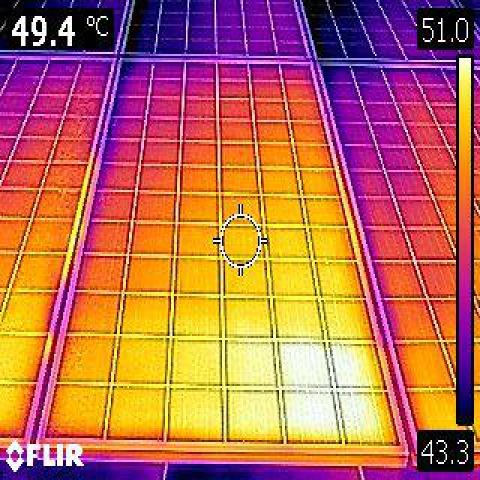fault: (282, 340, 364, 428)
